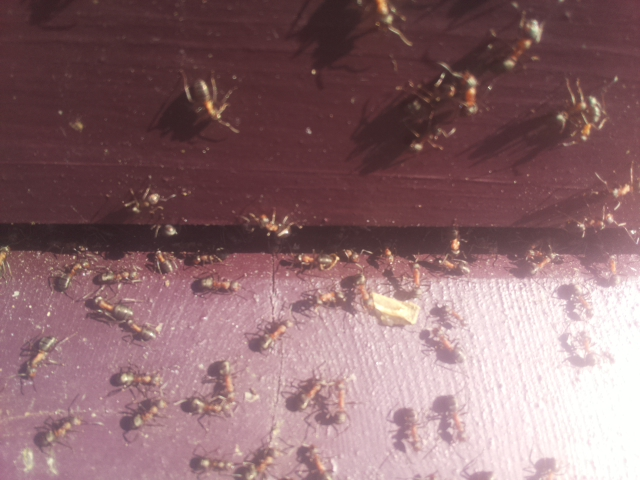ant: (181, 71, 248, 141), (547, 81, 615, 142), (494, 9, 550, 81), (11, 330, 66, 389), (120, 392, 172, 442), (366, 0, 419, 49), (29, 411, 88, 455), (432, 393, 472, 446), (281, 375, 333, 414), (423, 324, 468, 369), (291, 441, 339, 480), (392, 404, 428, 454), (238, 209, 297, 239), (46, 257, 91, 296), (253, 317, 299, 354), (117, 186, 168, 219), (241, 443, 285, 480), (79, 295, 135, 324), (104, 368, 166, 394), (185, 273, 245, 298), (454, 67, 484, 117), (427, 301, 470, 329), (517, 452, 559, 480), (94, 265, 140, 288), (188, 452, 236, 474), (152, 246, 177, 277), (456, 465, 496, 480)
